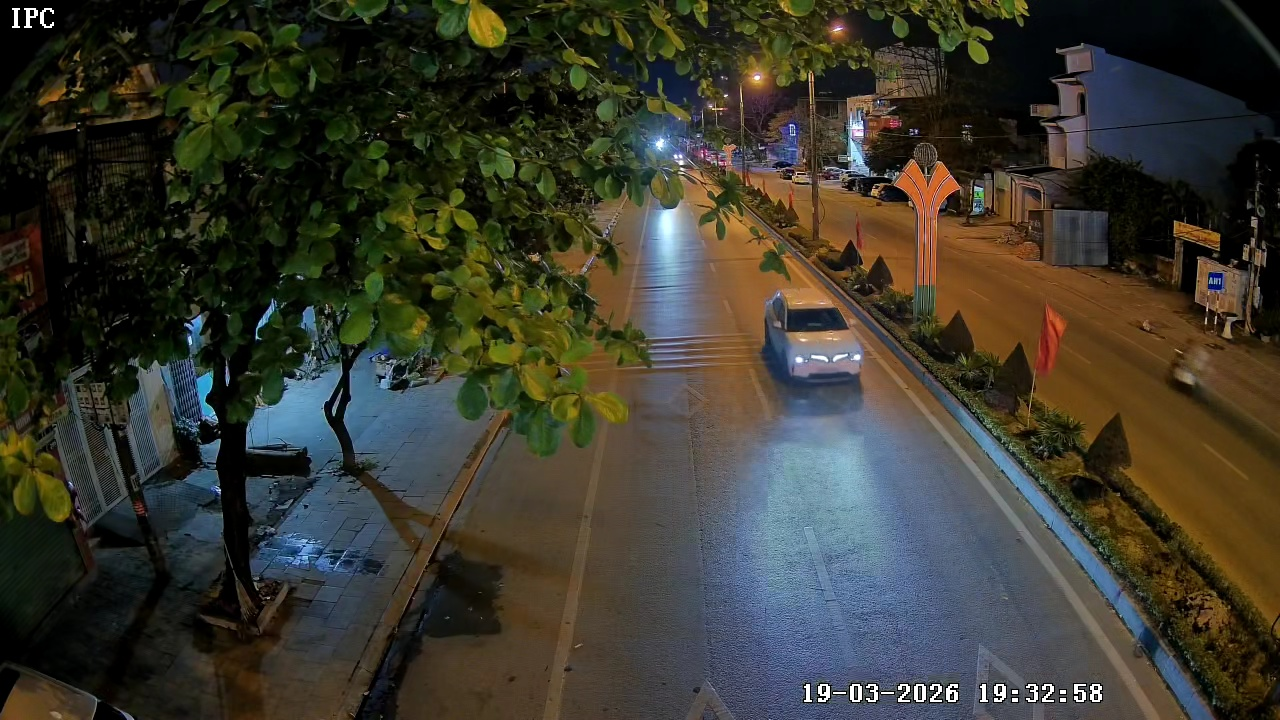car: (760, 289, 864, 385)
